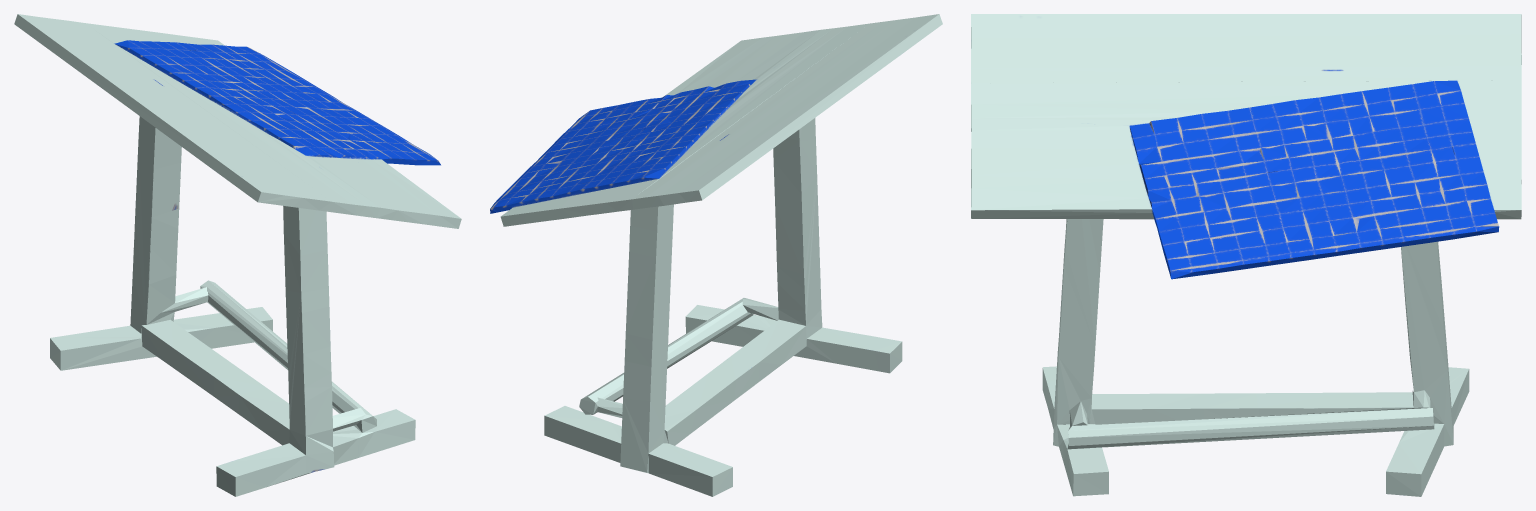
File: zeichentischKaputt.obj
3 renders of one model, left to right at view 1: azimuth 30°, elevation 25°; view 2: azimuth 150°, elevation 25°; view 3: azimuth 270°, elevation 25°, orthographic. The views are drawn at different scales.
Parts seen in each view (by area): view 1: 283513_23_06_13_08_51_29_0; view 2: 283513_23_06_13_08_51_29_0; view 3: 283513_23_06_13_08_51_29_0.
Boxes of the visible parts, left/top/right/bottom form: 283513_23_06_13_08_51_29_0: left=14, top=14, right=461, bottom=496; 283513_23_06_13_08_51_29_0: left=490, top=14, right=942, bottom=496; 283513_23_06_13_08_51_29_0: left=971, top=14, right=1521, bottom=496.
Size of the model in its own units: 5.1 by 5.9 by 7.9.
1 material, 1 textured.
